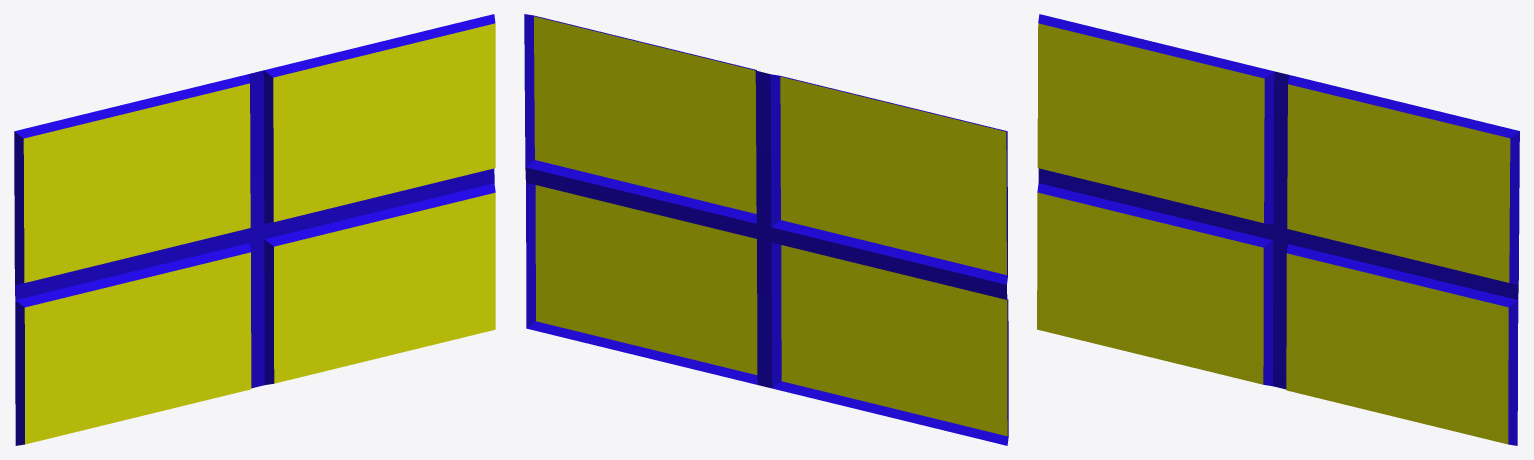
The model's file is window long 01.fbx.
3 renders of one model, left to right at view 1: azimuth 30°, elevation 25°; view 2: azimuth 150°, elevation 25°; view 3: azimuth 330°, elevation 25°, orthographic.
Visible parts, largest first — view 1: Rectangular Long Window Frame Design 01.003; view 2: Rectangular Long Window Frame Design 01.003; view 3: Rectangular Long Window Frame Design 01.003.
Boxes of the visible parts, box(x1,y1,x2,y2) form: Rectangular Long Window Frame Design 01.003: box(14, 14, 495, 445); Rectangular Long Window Frame Design 01.003: box(524, 14, 1008, 445); Rectangular Long Window Frame Design 01.003: box(1037, 14, 1519, 445).
Bounding box in the file's own units: 296 × 185 × 7.04.
